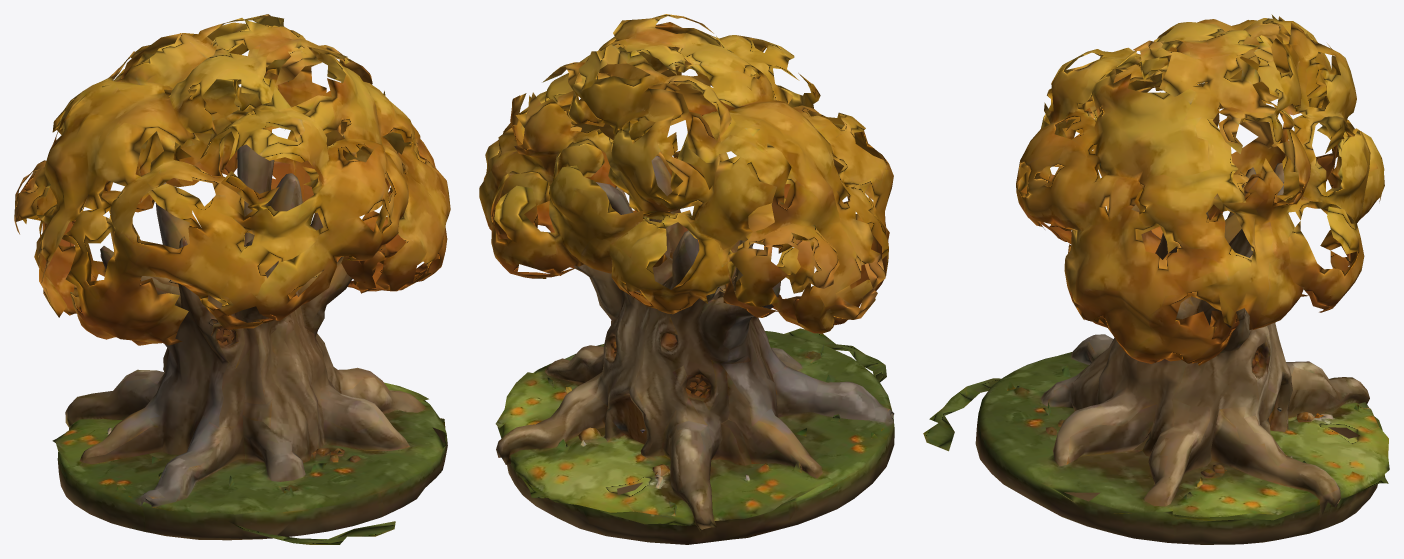
Rendered from ever-tree.glb.
3 renders of one model, left to right at view 1: azimuth 30°, elevation 25°; view 2: azimuth 150°, elevation 25°; view 3: azimuth 270°, elevation 25°, orthographic. The views are drawn at different scales.
Visible parts, largest first — view 1: geometry_0; view 2: geometry_0; view 3: geometry_0.
Boxes of the visible parts, x1=… form: geometry_0: x1=14, y1=14, x2=450, y2=544; geometry_0: x1=479, y1=14, x2=894, y2=544; geometry_0: x1=923, y1=14, x2=1389, y2=544.
Size of the model in its own units: 0.7548 by 0.81 by 0.7474.
1 material, 1 textured.
